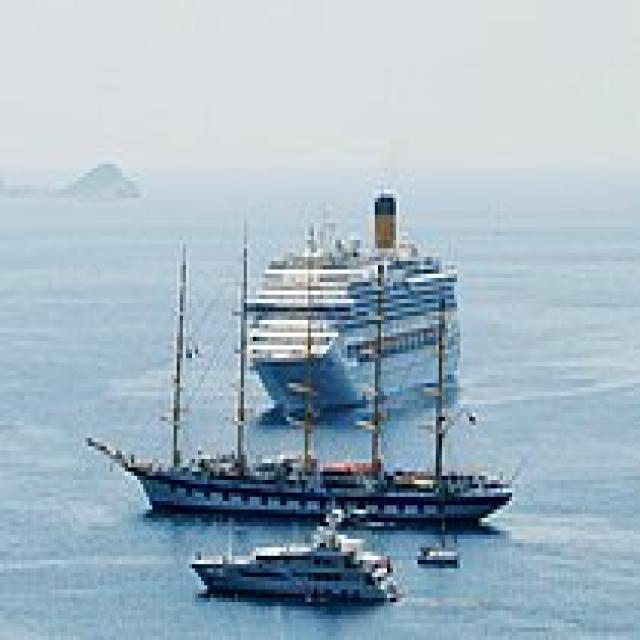Ship: (230, 178, 471, 418)
